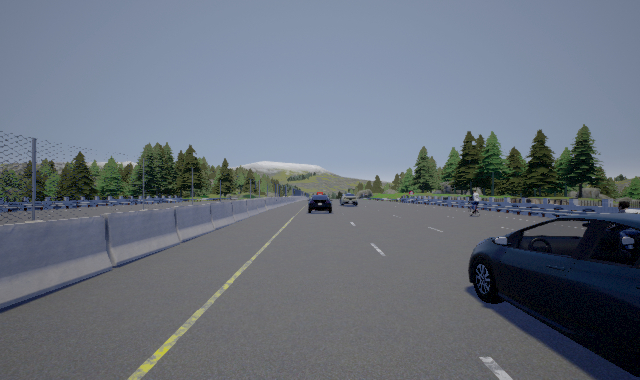bike: (466, 187, 484, 217)
vehicle: (468, 213, 640, 377), (307, 194, 333, 213), (340, 192, 360, 208)
